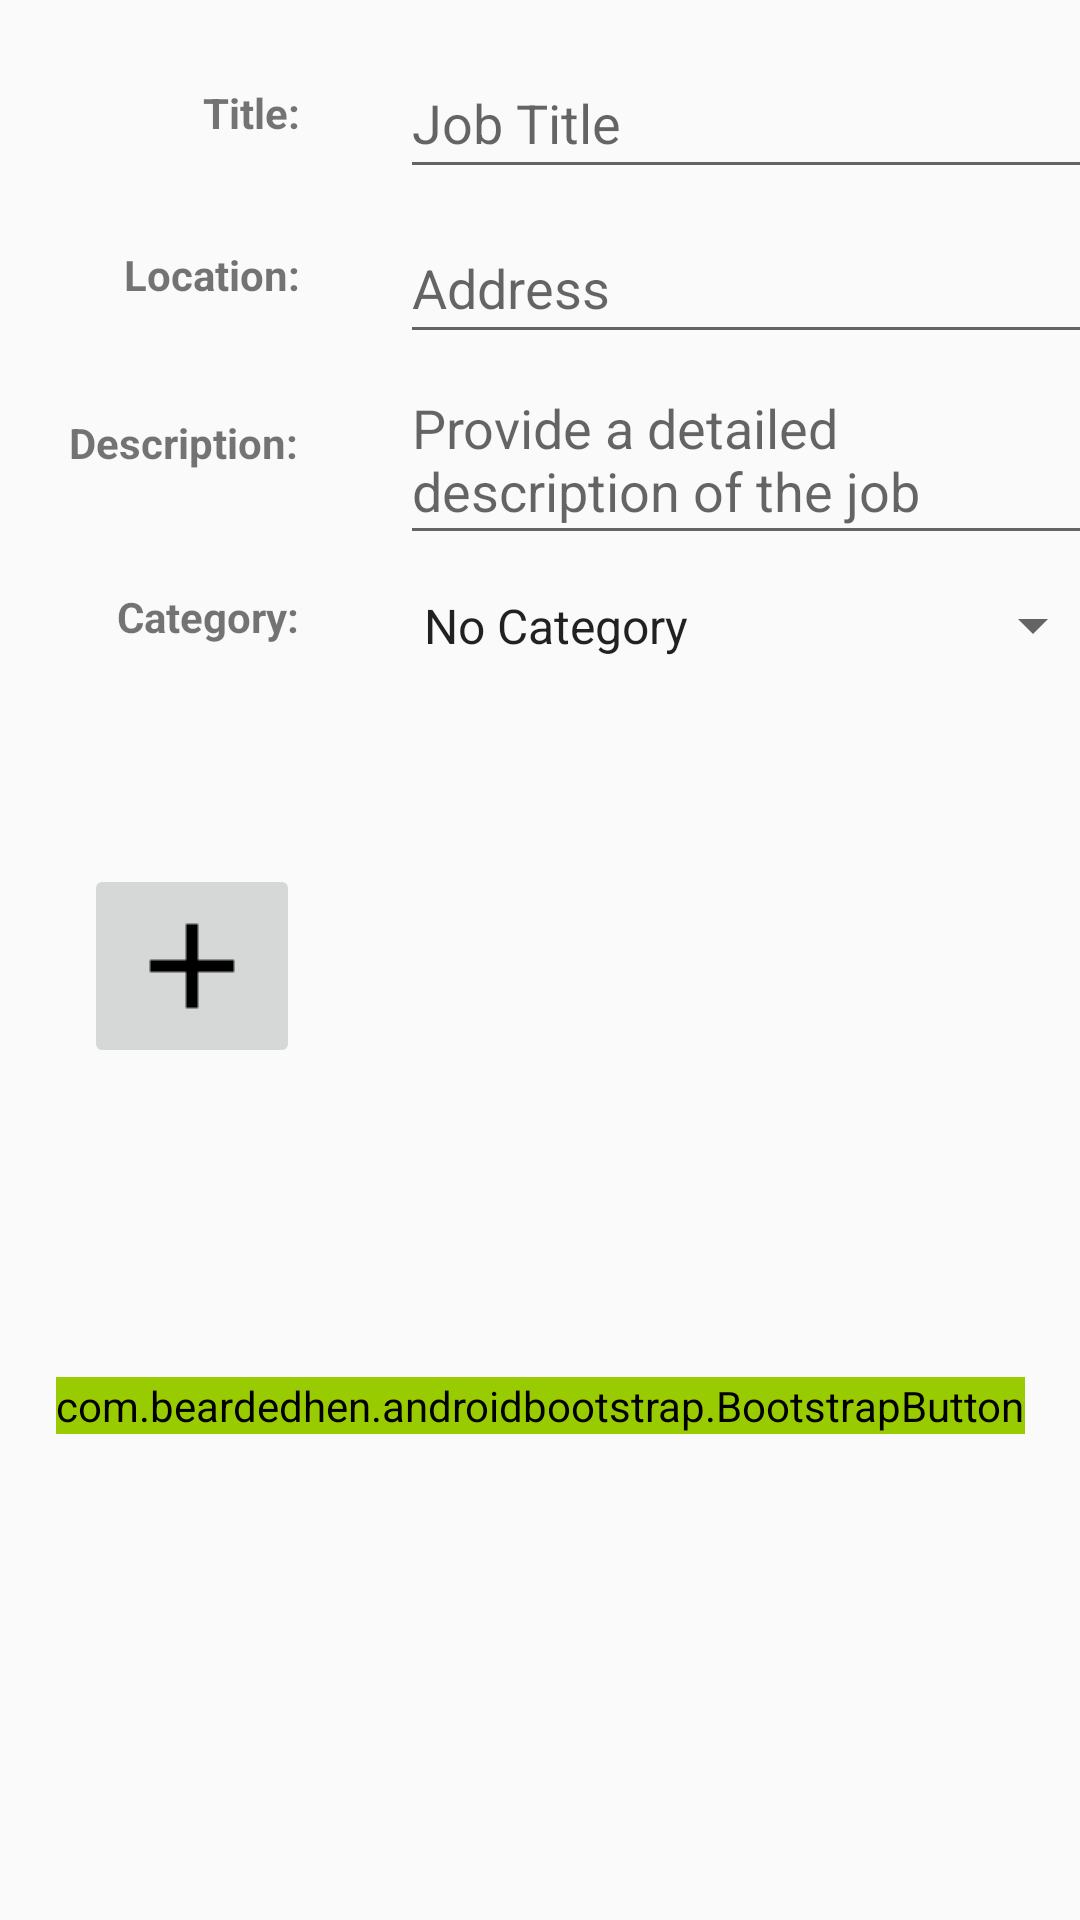

Where icons sit on this 1080px x 1920px app screen, as (x1, y1, x2, y2):
add job plus: (96, 882, 288, 1050)
